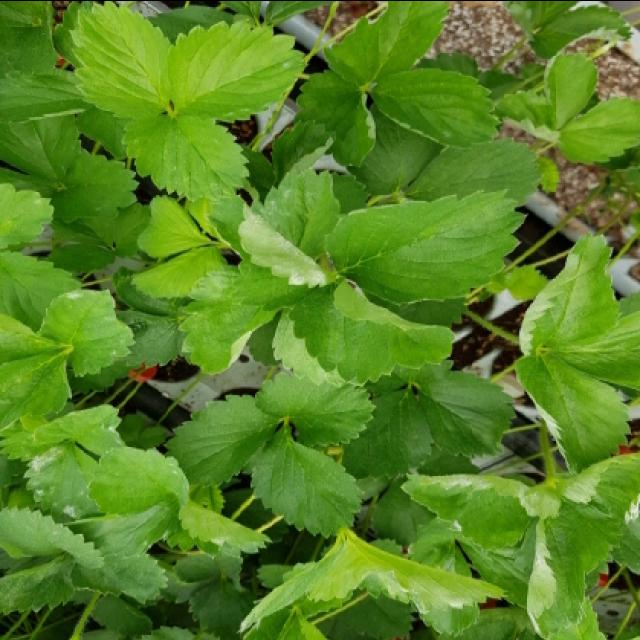Powdery Mildew Leaf: (303, 528, 508, 614), (205, 191, 328, 311), (514, 351, 632, 475), (527, 495, 623, 640), (398, 470, 561, 553), (519, 230, 623, 354), (35, 288, 136, 377), (293, 68, 378, 171), (256, 161, 341, 259), (545, 448, 638, 528), (21, 440, 96, 520), (527, 2, 634, 58), (543, 51, 601, 128), (270, 118, 334, 187), (494, 89, 560, 144)
